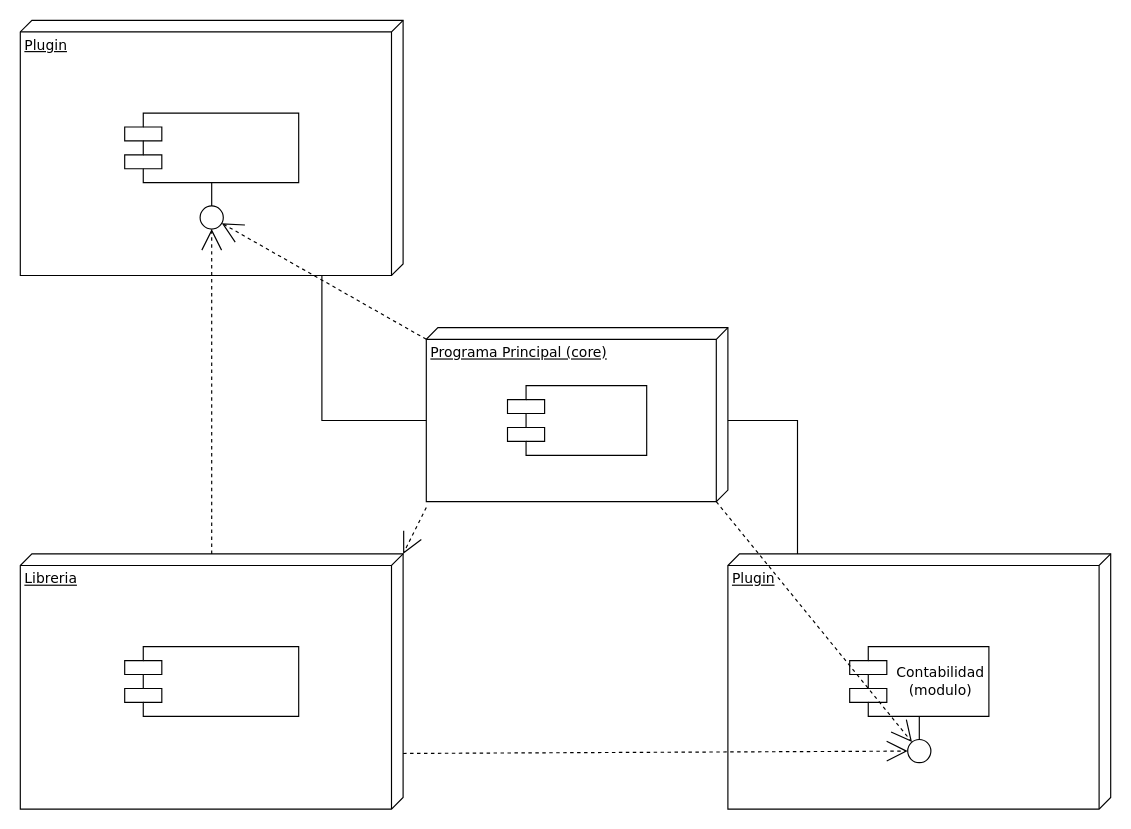
The diagram is 1131 pixels wide and 829 high, and some of its shapes have lost their labels. The centre of each missing label's shape, as x and y in pixels:
Control de Stock (modulo): pixel 211 147
Interfaz de modulo: pixel 211 681
MainWindow: pixel 576 420
